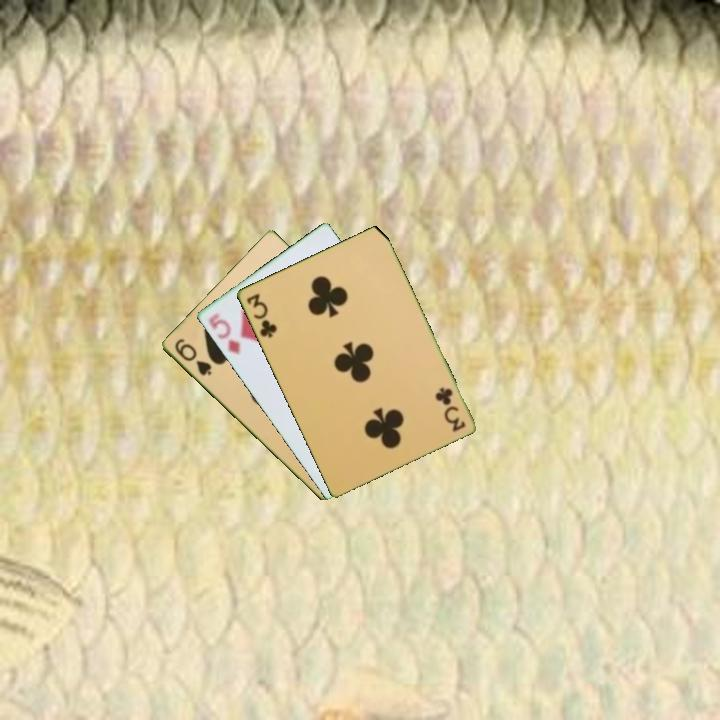3c: (242, 290, 280, 341), (432, 383, 468, 435)
5d: (205, 309, 243, 358)
6s: (171, 335, 214, 379)
